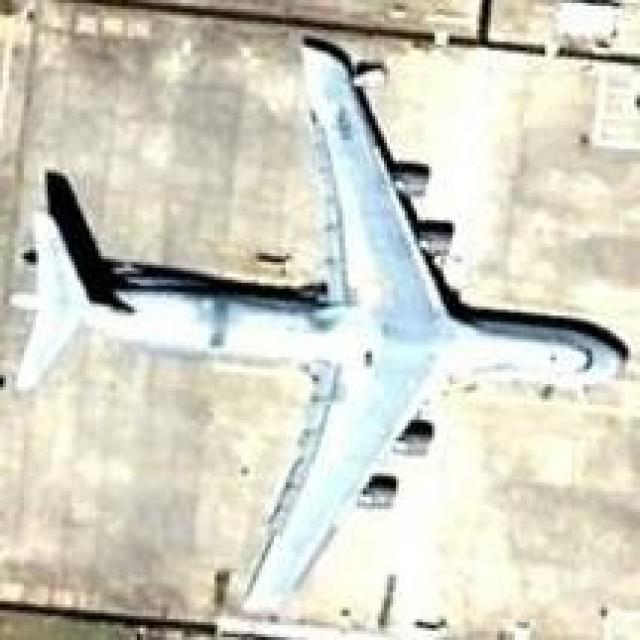C-5_TopDown: (0, 18, 634, 637)
